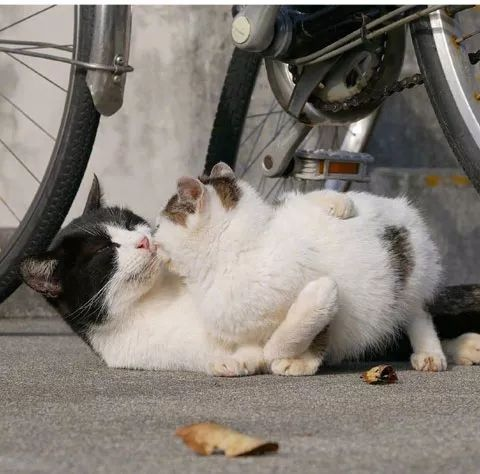cat: (152, 160, 443, 375), (20, 172, 237, 374)
